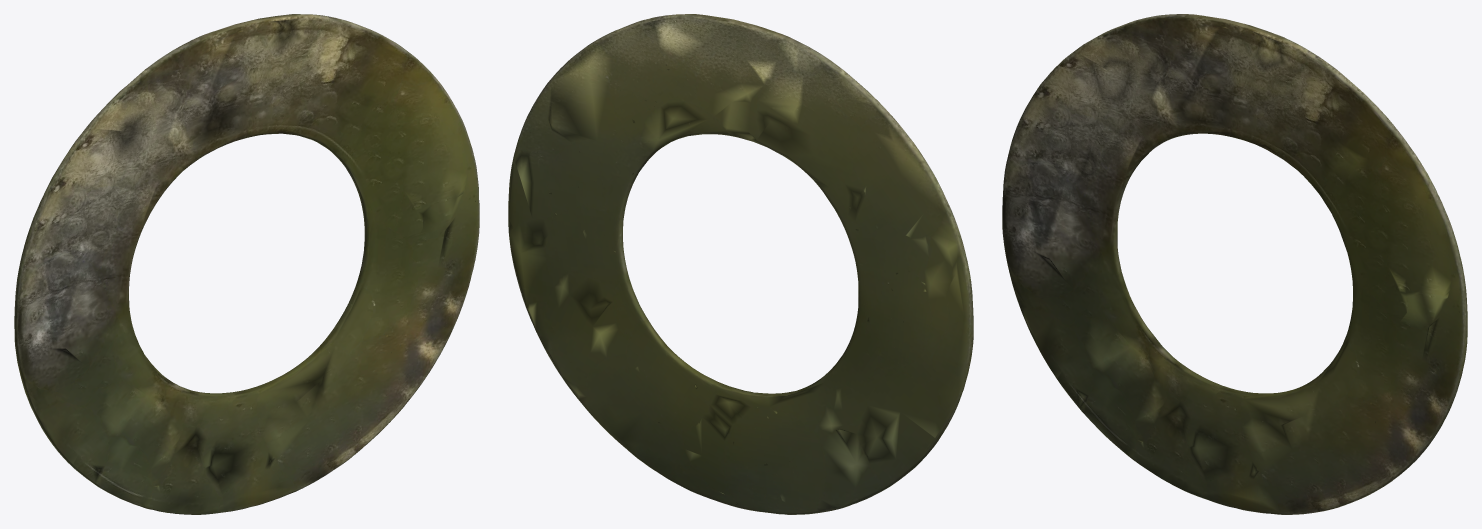
The model's file is grain-bi-roaming.glb.
3 views of the same model, side by side, from view 1: azimuth 30°, elevation 25°; view 2: azimuth 150°, elevation 25°; view 3: azimuth 330°, elevation 25° (orthographic).
Visible parts, largest first — view 1: node_0; view 2: node_0; view 3: node_0.
Boxes of the visible parts, box(x1,y1,x2,y2) form: node_0: box(14, 14, 479, 514); node_0: box(508, 14, 973, 514); node_0: box(1002, 14, 1467, 514).
Bounding box in the file's own units: 1.19 × 1.19 × 0.0197.
1 material, 1 textured.
